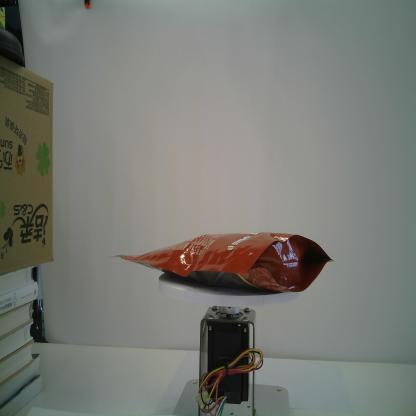Dried Food: (107, 230, 337, 296)
